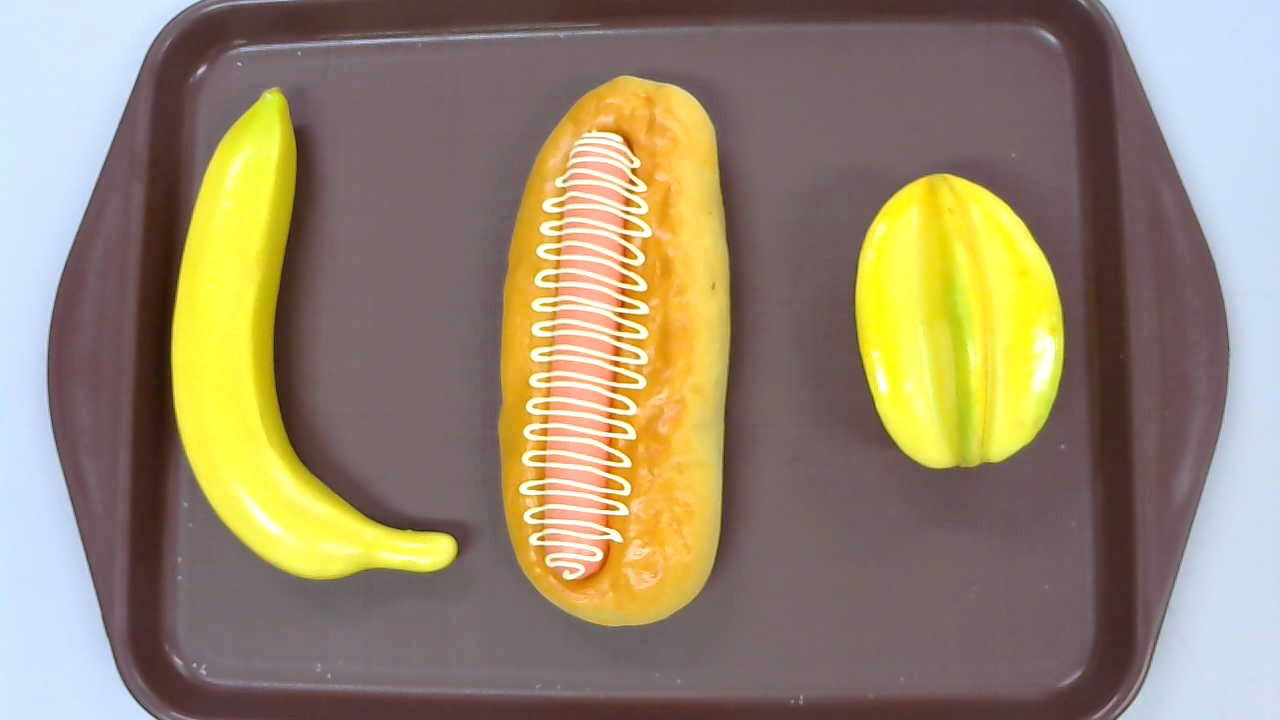banana: (171, 84, 458, 580)
hot dog: (497, 74, 731, 628)
star fruit: (853, 172, 1064, 468)
